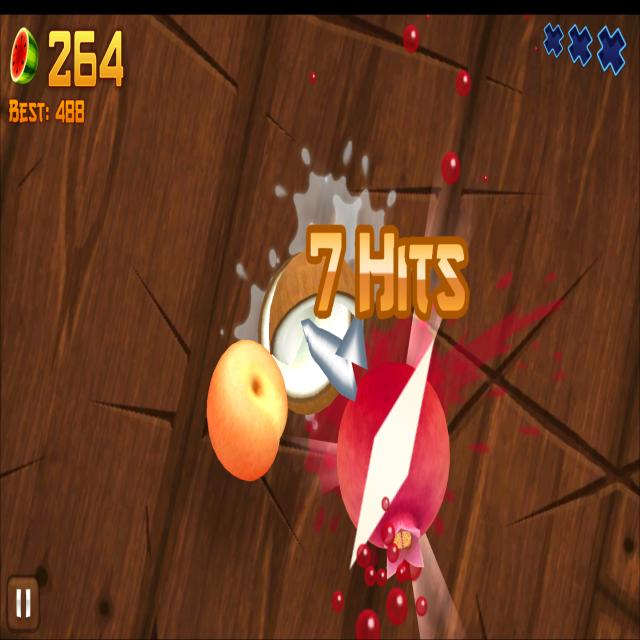fruit: (334, 358, 451, 558), (204, 339, 290, 483)
